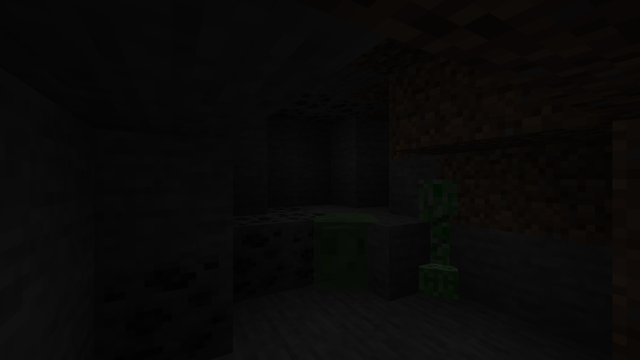creepers: (407, 174, 457, 298)
slimes: (303, 209, 390, 295)
